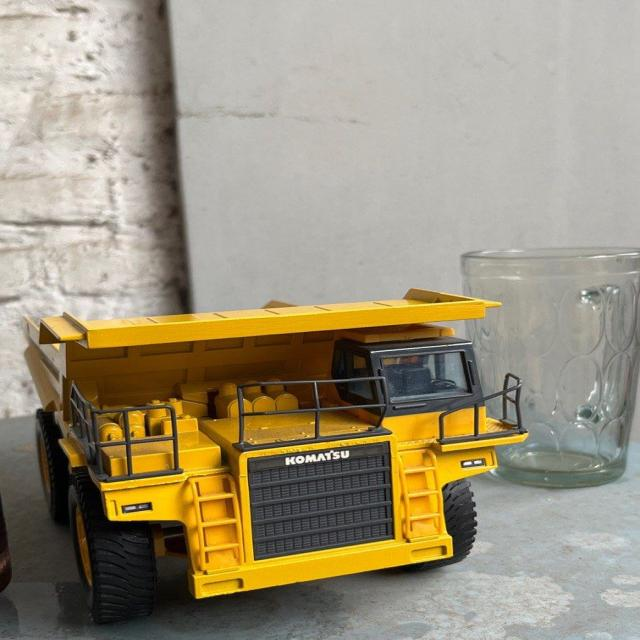dump_truck: (28, 283, 533, 628)
